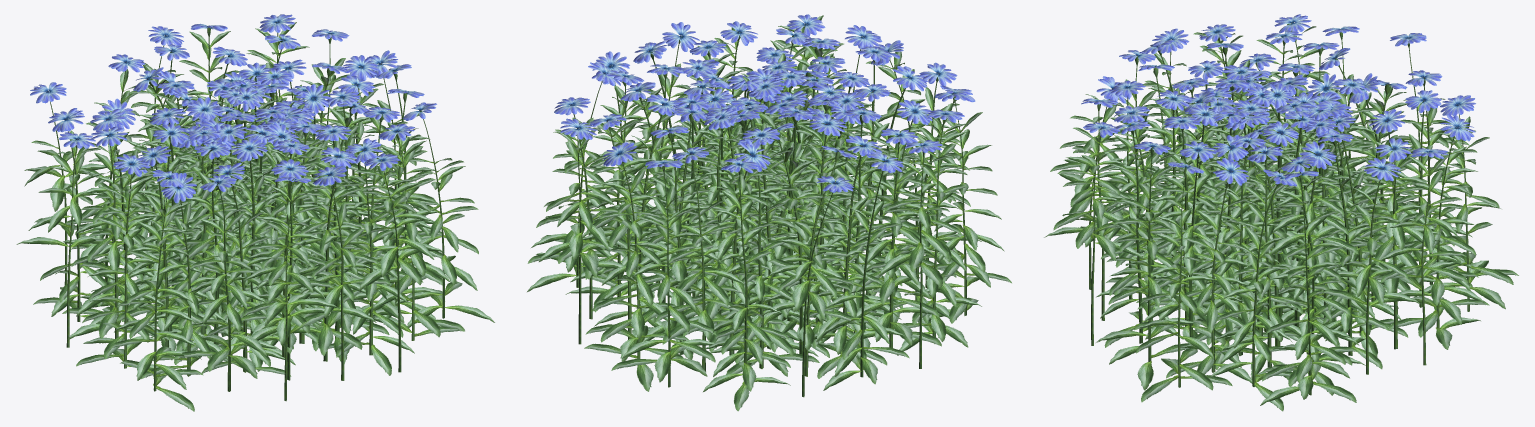
The model's file is purple_flower.glb.
The picture shows the model from 3 angles, left to right: view 1: azimuth 30°, elevation 25°; view 2: azimuth 150°, elevation 25°; view 3: azimuth 270°, elevation 25°; orthographic projection. The views are drawn at different scales.
Parts seen in each view (by area): view 1: hoacuc; view 2: hoacuc; view 3: hoacuc.
Boxes of the visible parts, <box> form: hoacuc: <box>16,14,494,411</box>; hoacuc: <box>527,14,1011,411</box>; hoacuc: <box>1044,14,1518,411</box>.
Size of the model in its own units: 1.97 by 1.05 by 1.95.
3 materials, 3 textured.
